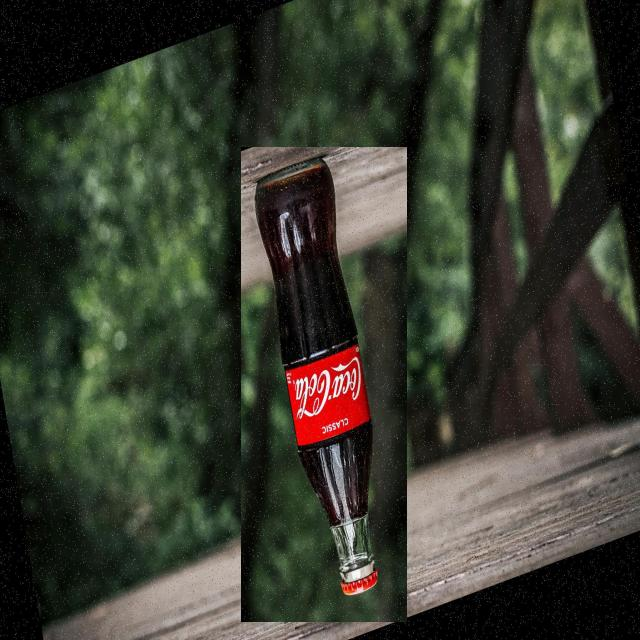coca-cola: (241, 147, 407, 622)
